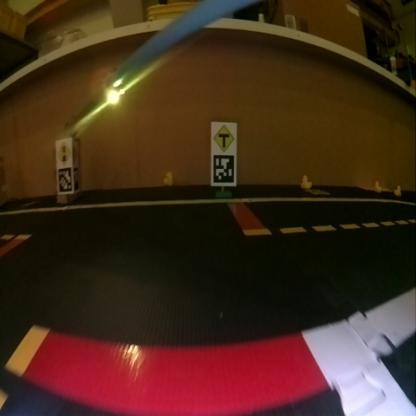Duckie: (300, 175, 312, 187), (164, 172, 172, 184), (374, 182, 380, 192), (394, 186, 400, 195)
Intersection sign: (212, 122, 236, 152)
QR code: (212, 154, 236, 185), (57, 169, 72, 191), (307, 187, 327, 195)
Signal sign: (56, 140, 72, 166)
